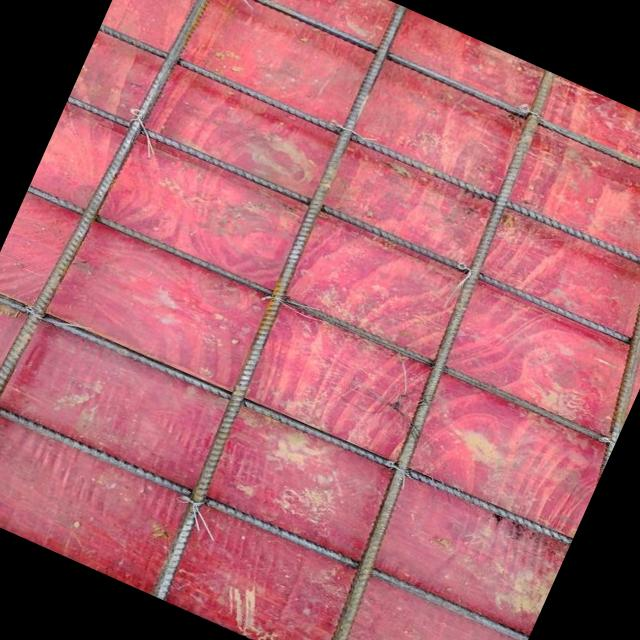ribbed bar: (282, 69, 595, 640), (136, 3, 424, 600), (27, 180, 616, 454), (0, 277, 572, 555), (65, 88, 640, 364), (98, 17, 640, 292), (0, 374, 529, 640), (0, 0, 247, 521), (135, 0, 640, 208), (554, 130, 640, 439)
